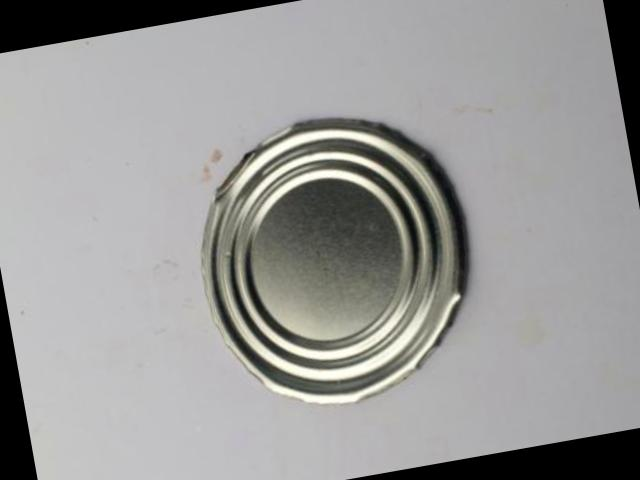metal: (200, 117, 464, 402)
